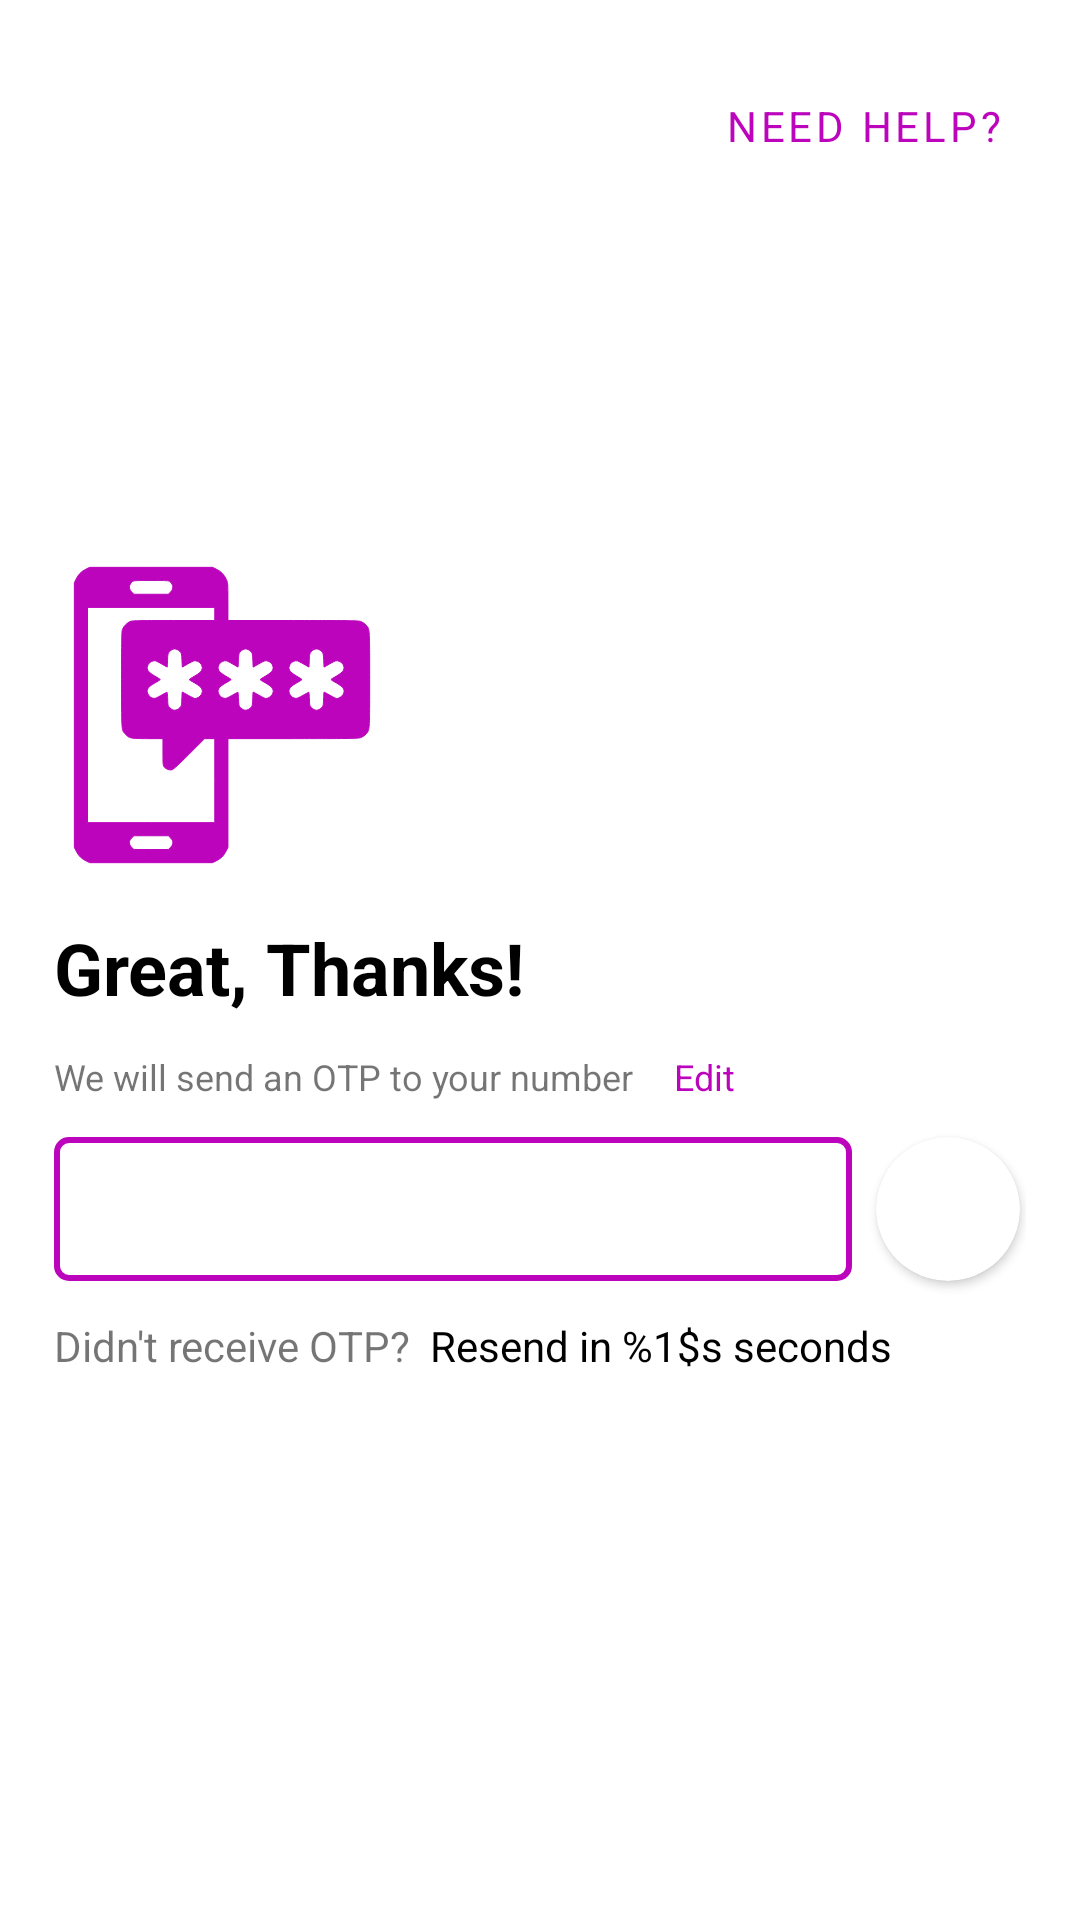

Icon click points for this 1080 × 1920 phone screenshot, format (x=x, y=y):
Smartphone: (x=222, y=715)
